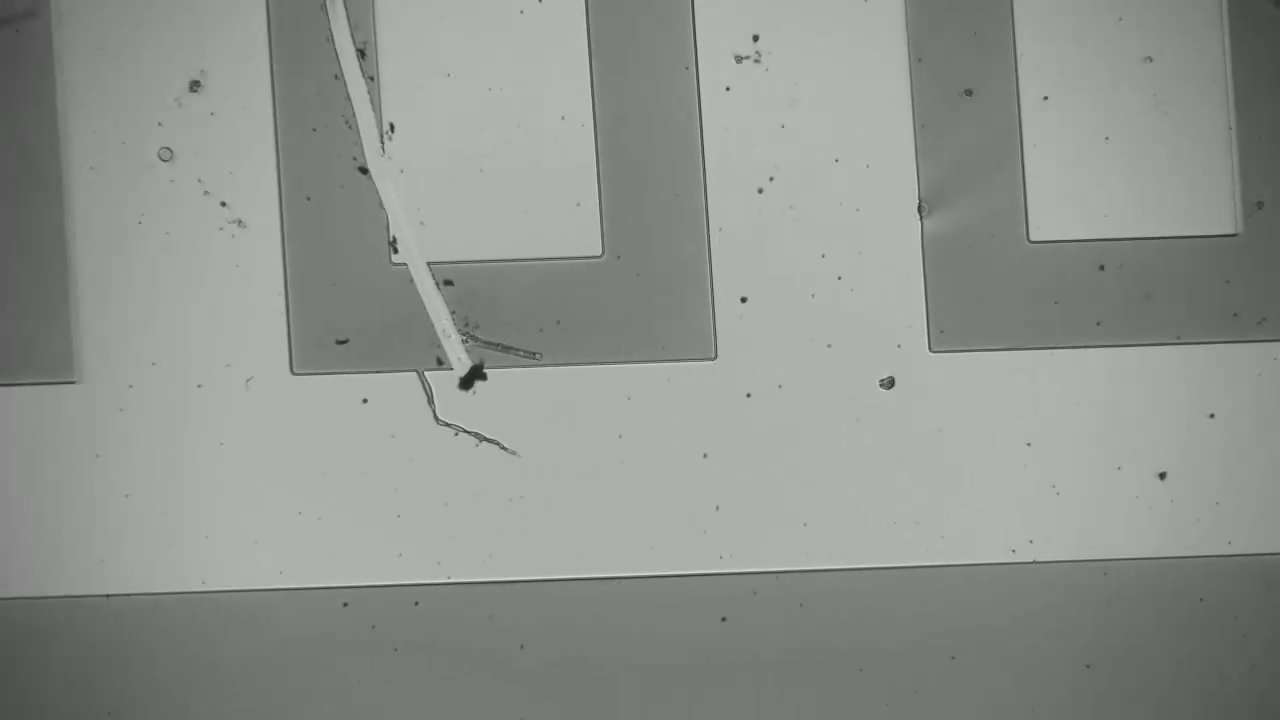Short_circuit: (391, 251, 512, 401)
